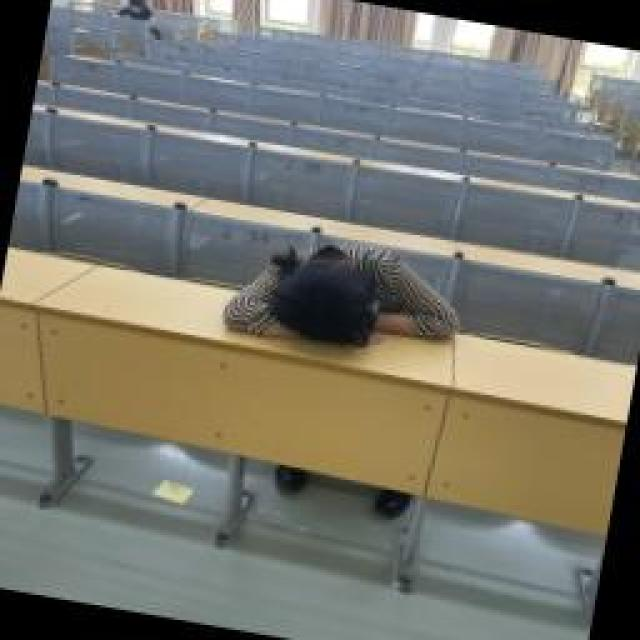sleep: (215, 225, 470, 370)
